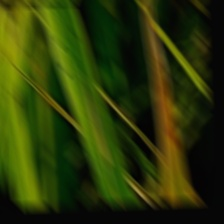Leaf_Blast: (141, 0, 176, 155)
